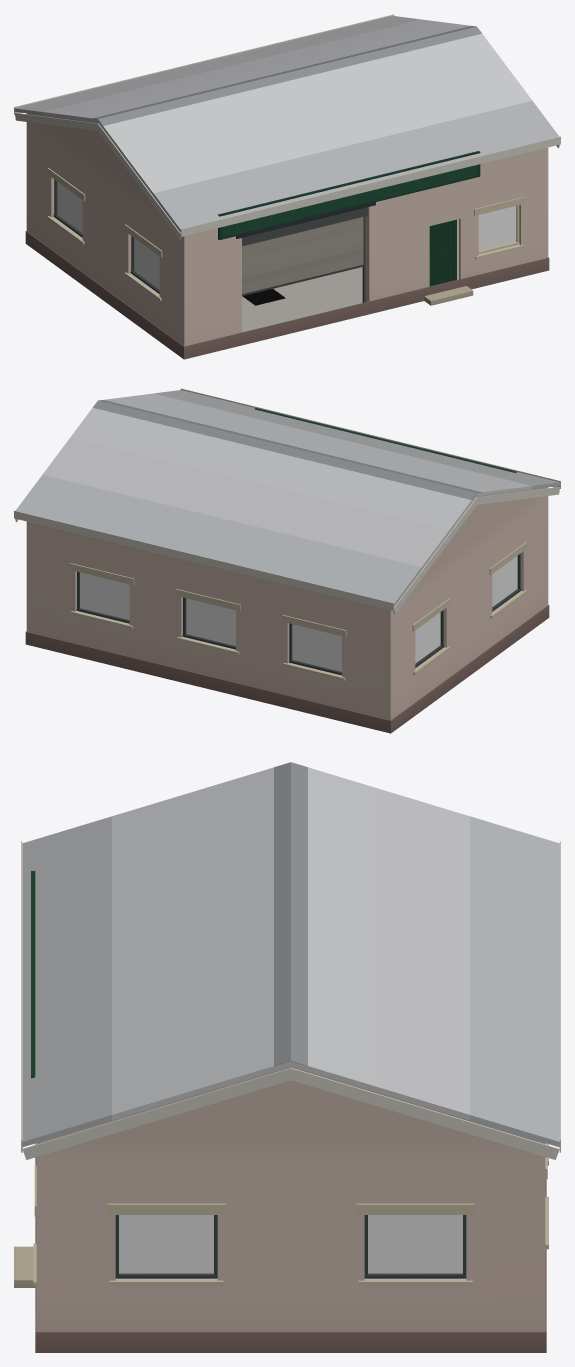
File: garage_shell_a_lod2.glb
3 renders of one model, top to bottom at view 1: azimuth 30°, elevation 25°; view 2: azimuth 150°, elevation 25°; view 3: azimuth 270°, elevation 25°, orthographic. The views are drawn at different scales.
Visible parts, largest first — view 1: body, roller_door; view 2: body; view 3: body.
Part boxes in pixels (x1,y1,x2,y2): body: (14, 14, 560, 359); roller_door: (242, 207, 367, 296); body: (14, 388, 560, 733); body: (14, 762, 560, 1352).
Size of what is drawn, in the model's own units: 12.52 by 5.81 by 9.67.
